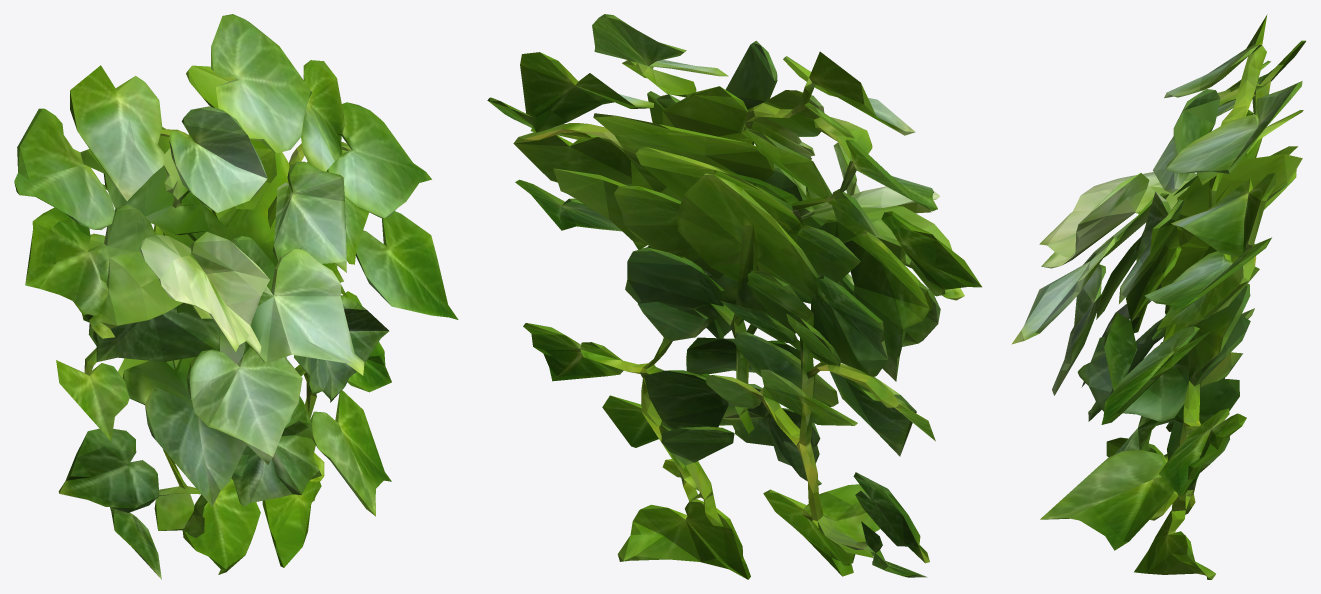
File: hojasPared.glb
3 renders of one model, left to right at view 1: azimuth 30°, elevation 25°; view 2: azimuth 150°, elevation 25°; view 3: azimuth 270°, elevation 25°, orthographic. The views are drawn at different scales.
Visible parts, largest first — view 1: node_0.001; view 2: node_0.001; view 3: node_0.001.
Boxes of the visible parts, left/top/right/bottom form: node_0.001: left=14, top=14, right=458, bottom=579; node_0.001: left=487, top=14, right=981, bottom=579; node_0.001: left=1011, top=14, right=1305, bottom=579.
Bounding box in the file's own units: 0.909 × 1.09 × 0.5813.
1 material, 1 textured.
